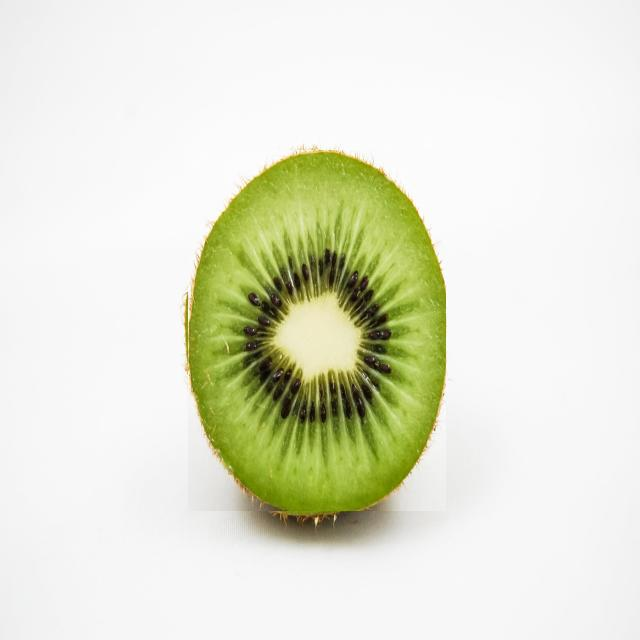Qiwi: (188, 150, 446, 511)
